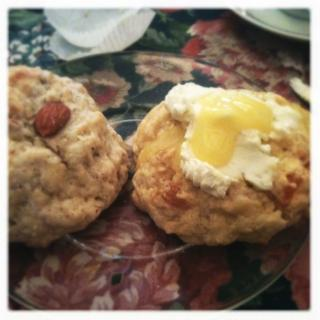Cookie: (129, 82, 319, 246), (8, 64, 133, 248)
